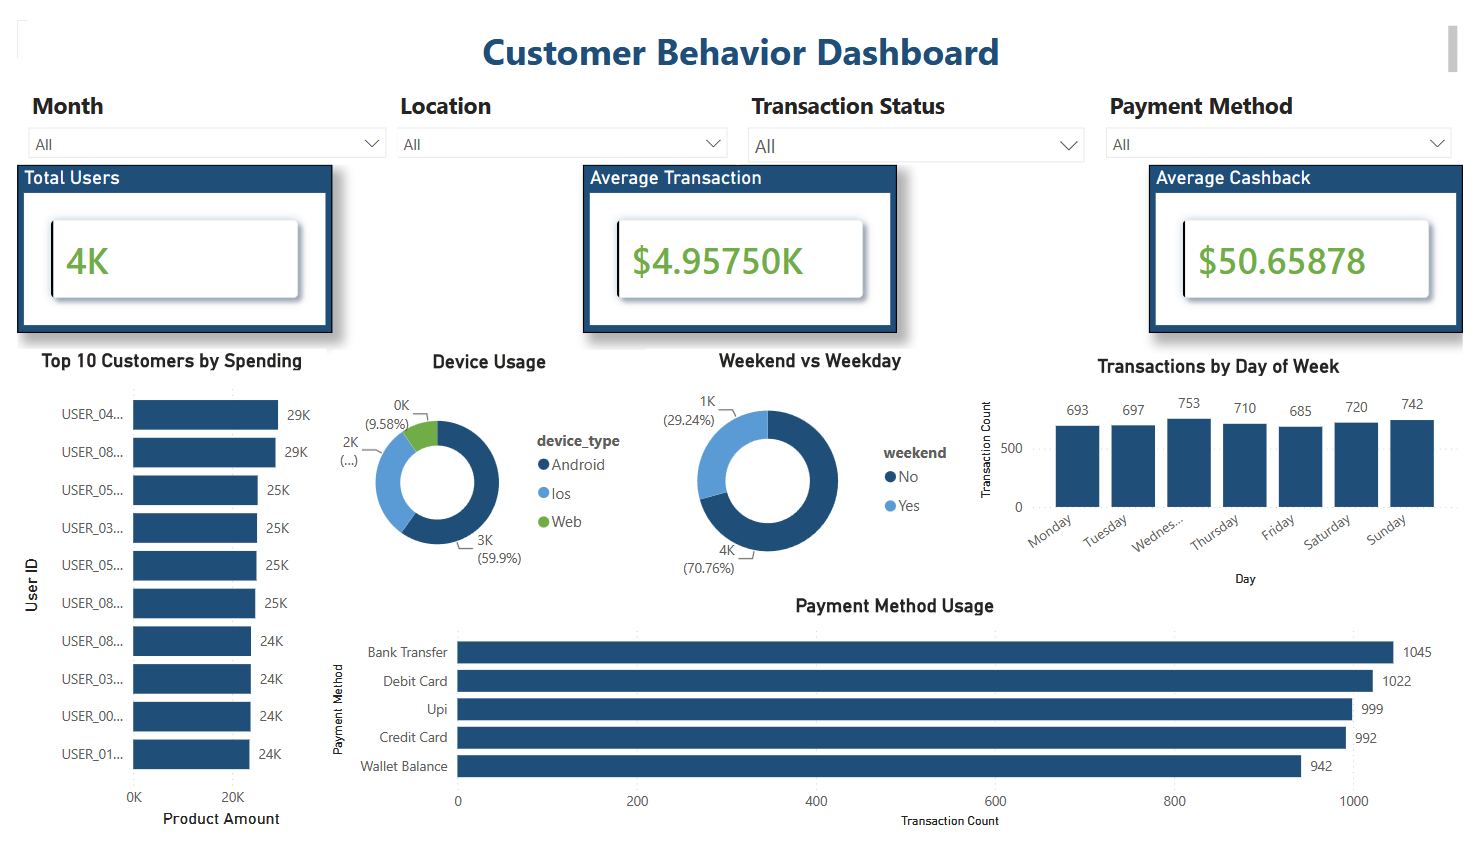

The dashboard page shown, as its layout file describes it:
{"tool":"powerbi","page":{"name":"Customer Behavior","canvas":[1280,720],"ordinal":1},"visuals":[{"type":"textbox","box":[9.6,0,1270.7,52.1],"z":0},{"type":"cardVisual","title":"Average Transaction","fields":{"Data":["cleaned_transactions.Average Transaction"]},"box":[500.9,127.6,278.6,149.6],"z":1000},{"type":"cardVisual","title":"Average Cashback","fields":{"Data":["cleaned_transactions.Average Cashback"]},"box":[1001.7,127.6,278.6,149.6],"z":2000},{"type":"cardVisual","title":"Total Users","fields":{"Data":["cleaned_transactions.Total Users"]},"box":[0,127.6,278.6,149.6],"z":3000},{"type":"clusteredBarChart","title":"Payment Method Usage","fields":{"Category":["cleaned_transactions.payment_method"],"Y":["cleaned_transactions.count_TID"]},"box":[274.4,507.7,1005.8,212.7],"z":4000},{"type":"donutChart","title":"Device Usage","fields":{"Category":["cleaned_transactions.device_type"],"Y":["cleaned_transactions.count_TID"]},"box":[278.6,292.3,278.6,215.4],"z":5000},{"type":"columnChart","title":"Transactions by Day of Week","fields":{"Category":["cleaned_transactions.day_name"],"Y":["cleaned_transactions.count_TID"]},"box":[846.7,296.4,433.6,209.9],"z":6000},{"type":"donutChart","title":"Weekend vs Weekday","fields":{"Category":["cleaned_transactions.weekend"],"Y":["cleaned_transactions.count_TID"]},"box":[557.1,290.9,289.5,215.4],"z":7000},{"type":"barChart","title":"Top 10 Customers by Spending","fields":{"Category":["cleaned_transactions.user_id"],"Y":["Sum(cleaned_transactions.product_amount)"]},"box":[0,290.9,274.4,429.5],"z":8000},{"type":"slicer","fields":{"Values":["cleaned_transactions.payment_method"]},"box":[954.4,56.3,325.6,71.4],"z":9000},{"type":"slicer","fields":{"Values":["cleaned_transactions.location"]},"box":[325.6,56.3,313.2,71.4],"z":10000},{"type":"slicer","fields":{"Values":["cleaned_transactions.transaction_status"]},"box":[637.4,56.3,317.3,71.4],"z":11000},{"type":"slicer","fields":{"Values":["cleaned_transactions.month"]},"box":[0,56.3,336.6,71.4],"z":12000}]}

Visuals, with their boxes in screenshot pixels (x1, y1, x2, y2), scaled from the page's 1280x720 canvas onto the 1477x843 screenshot:
textbox: 11 0 1476 61
"Average Transaction" cardVisual: 578 149 899 325
"Average Cashback" cardVisual: 1156 149 1476 325
"Total Users" cardVisual: 0 149 321 325
"Payment Method Usage" clusteredBarChart: 317 594 1476 842
"Device Usage" donutChart: 321 342 643 594
"Transactions by Day of Week" columnChart: 977 347 1476 593
"Weekend vs Weekday" donutChart: 643 341 977 593
"Top 10 Customers by Spending" barChart: 0 341 317 842
slicer - cleaned_transactions.payment_method: 1101 66 1476 150
slicer - cleaned_transactions.location: 376 66 737 150
slicer - cleaned_transactions.transaction_status: 735 66 1102 150
slicer - cleaned_transactions.month: 0 66 388 150
